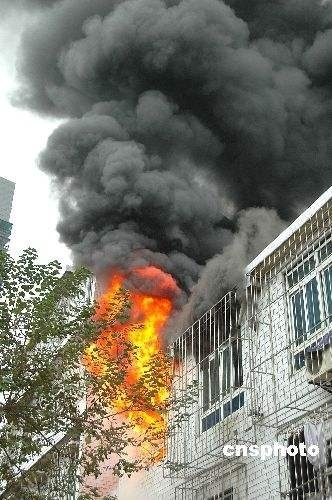fire: (86, 268, 176, 462)
